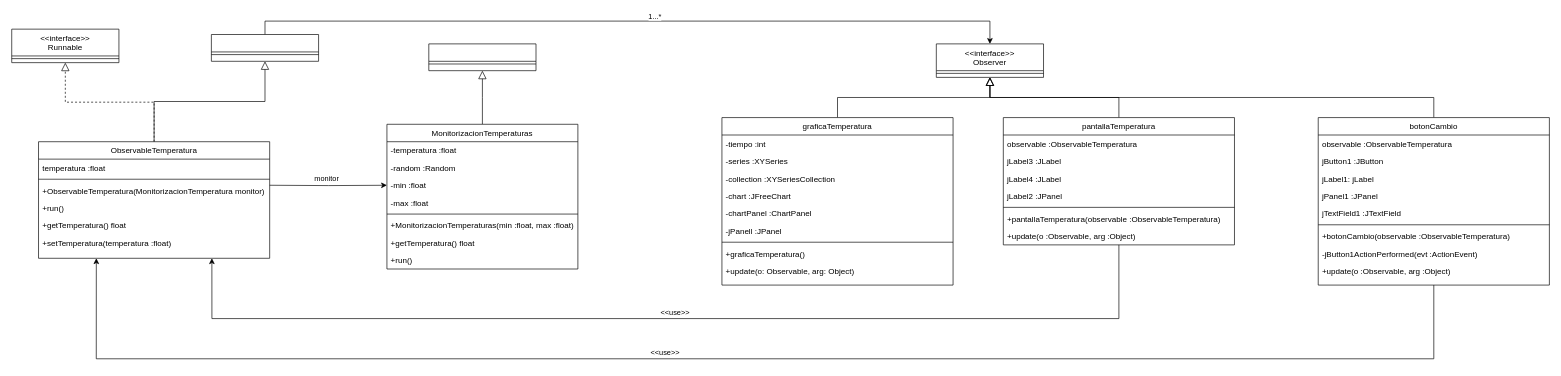
The diagram is 1561 pixels wide and 376 high, and some of its shapes have lost their labels. The centre of each missing label's shape, as x and y in pixels:
Observable: (265,47)
Thread: (482,57)
